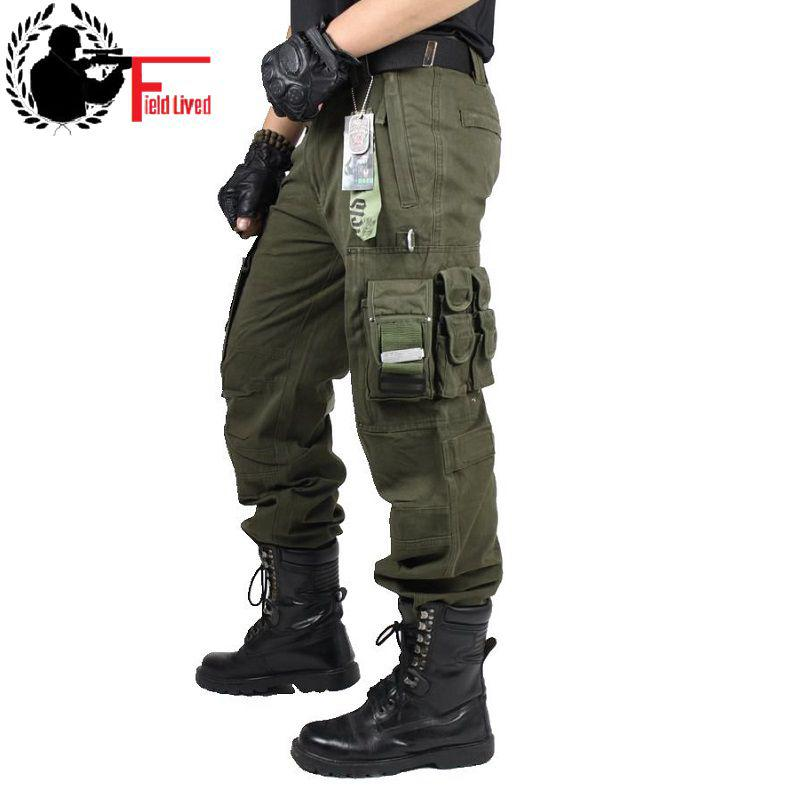pants: (217, 66, 504, 607)
